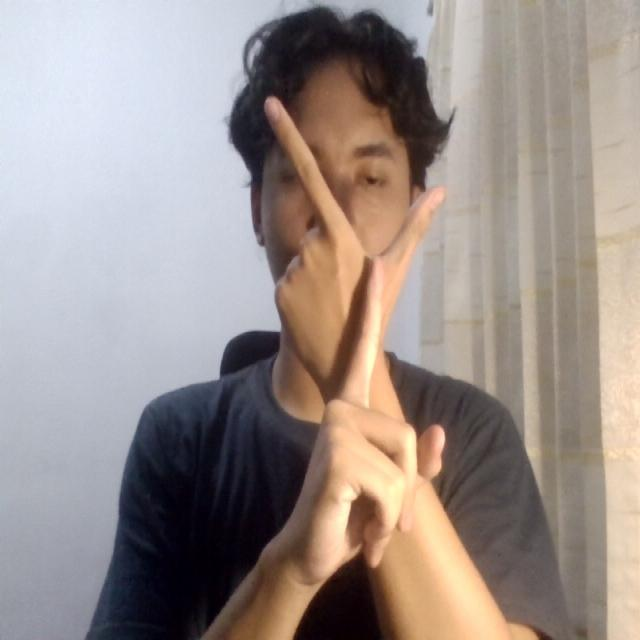No: (241, 88, 473, 588)
